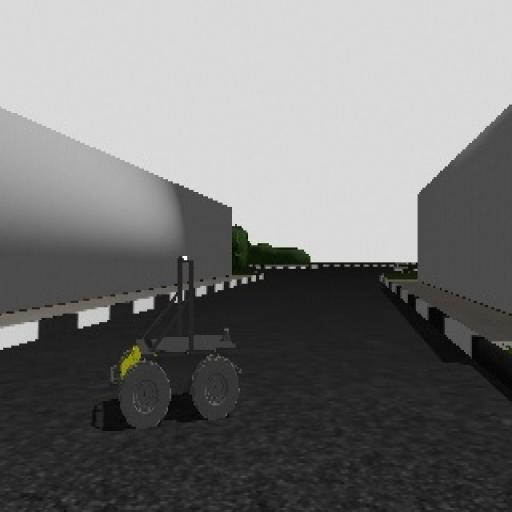huskya200: (92, 245, 258, 430)
